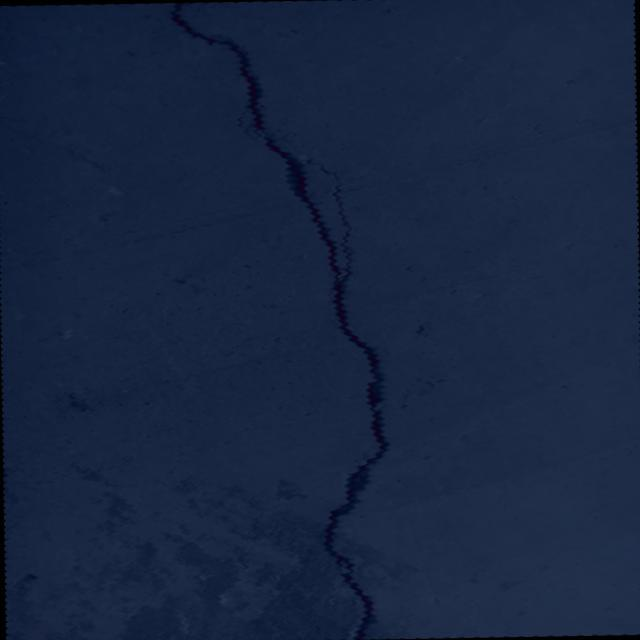crack: (168, 0, 391, 640), (10, 462, 228, 500)
